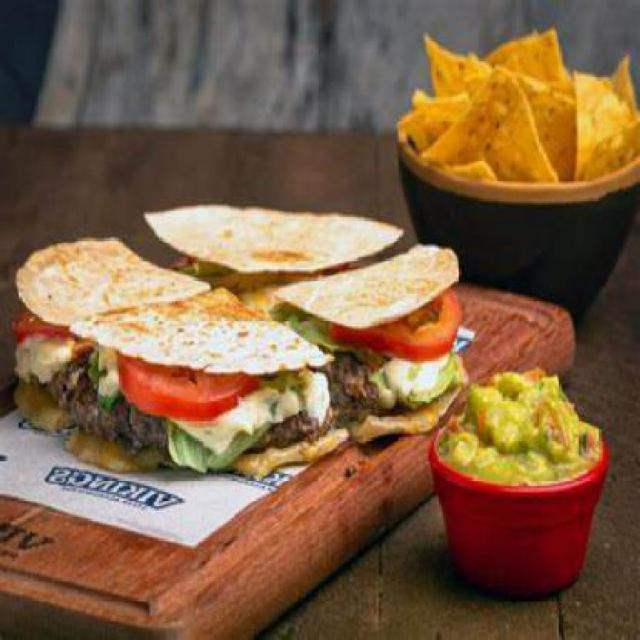chicken quesadilla: (11, 186, 482, 486)
guacamole: (422, 358, 612, 553)
